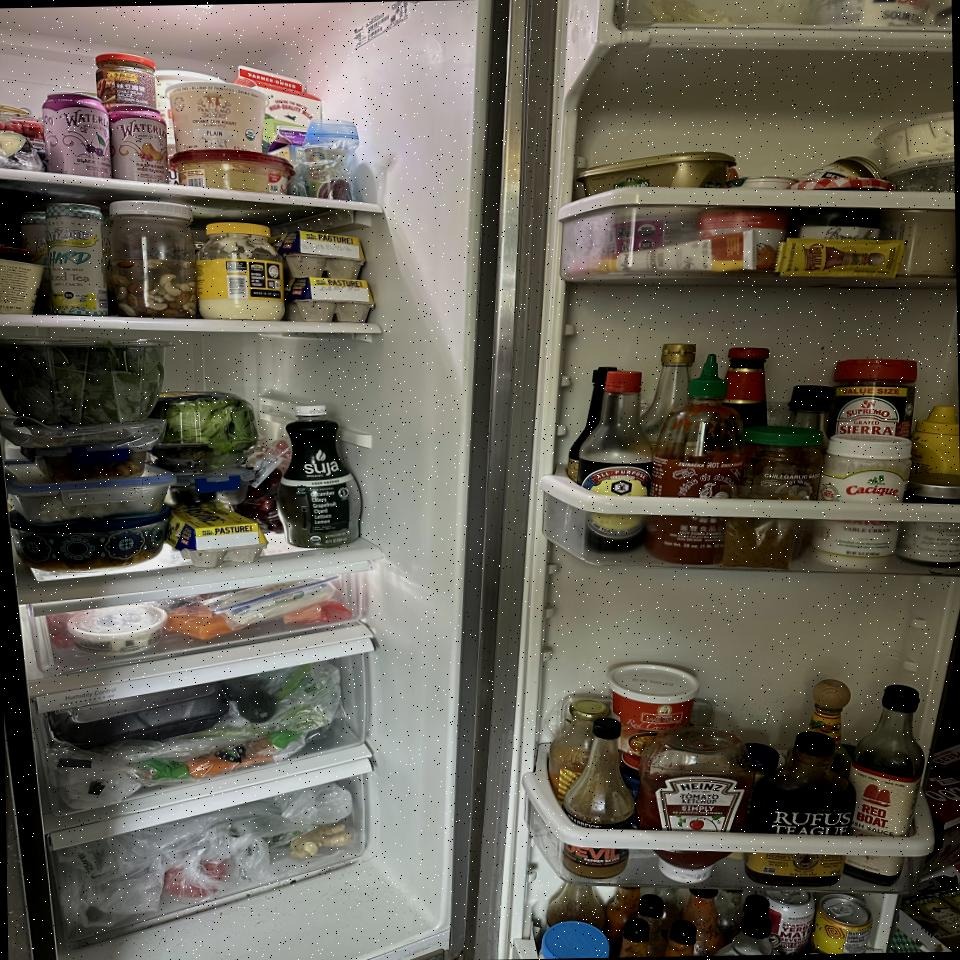Huevos: (165, 505, 270, 568), (274, 230, 369, 281), (286, 277, 378, 324)
Leche: (234, 64, 323, 154)
Yogur: (164, 80, 270, 154)
Zanahoria: (142, 740, 304, 782)
